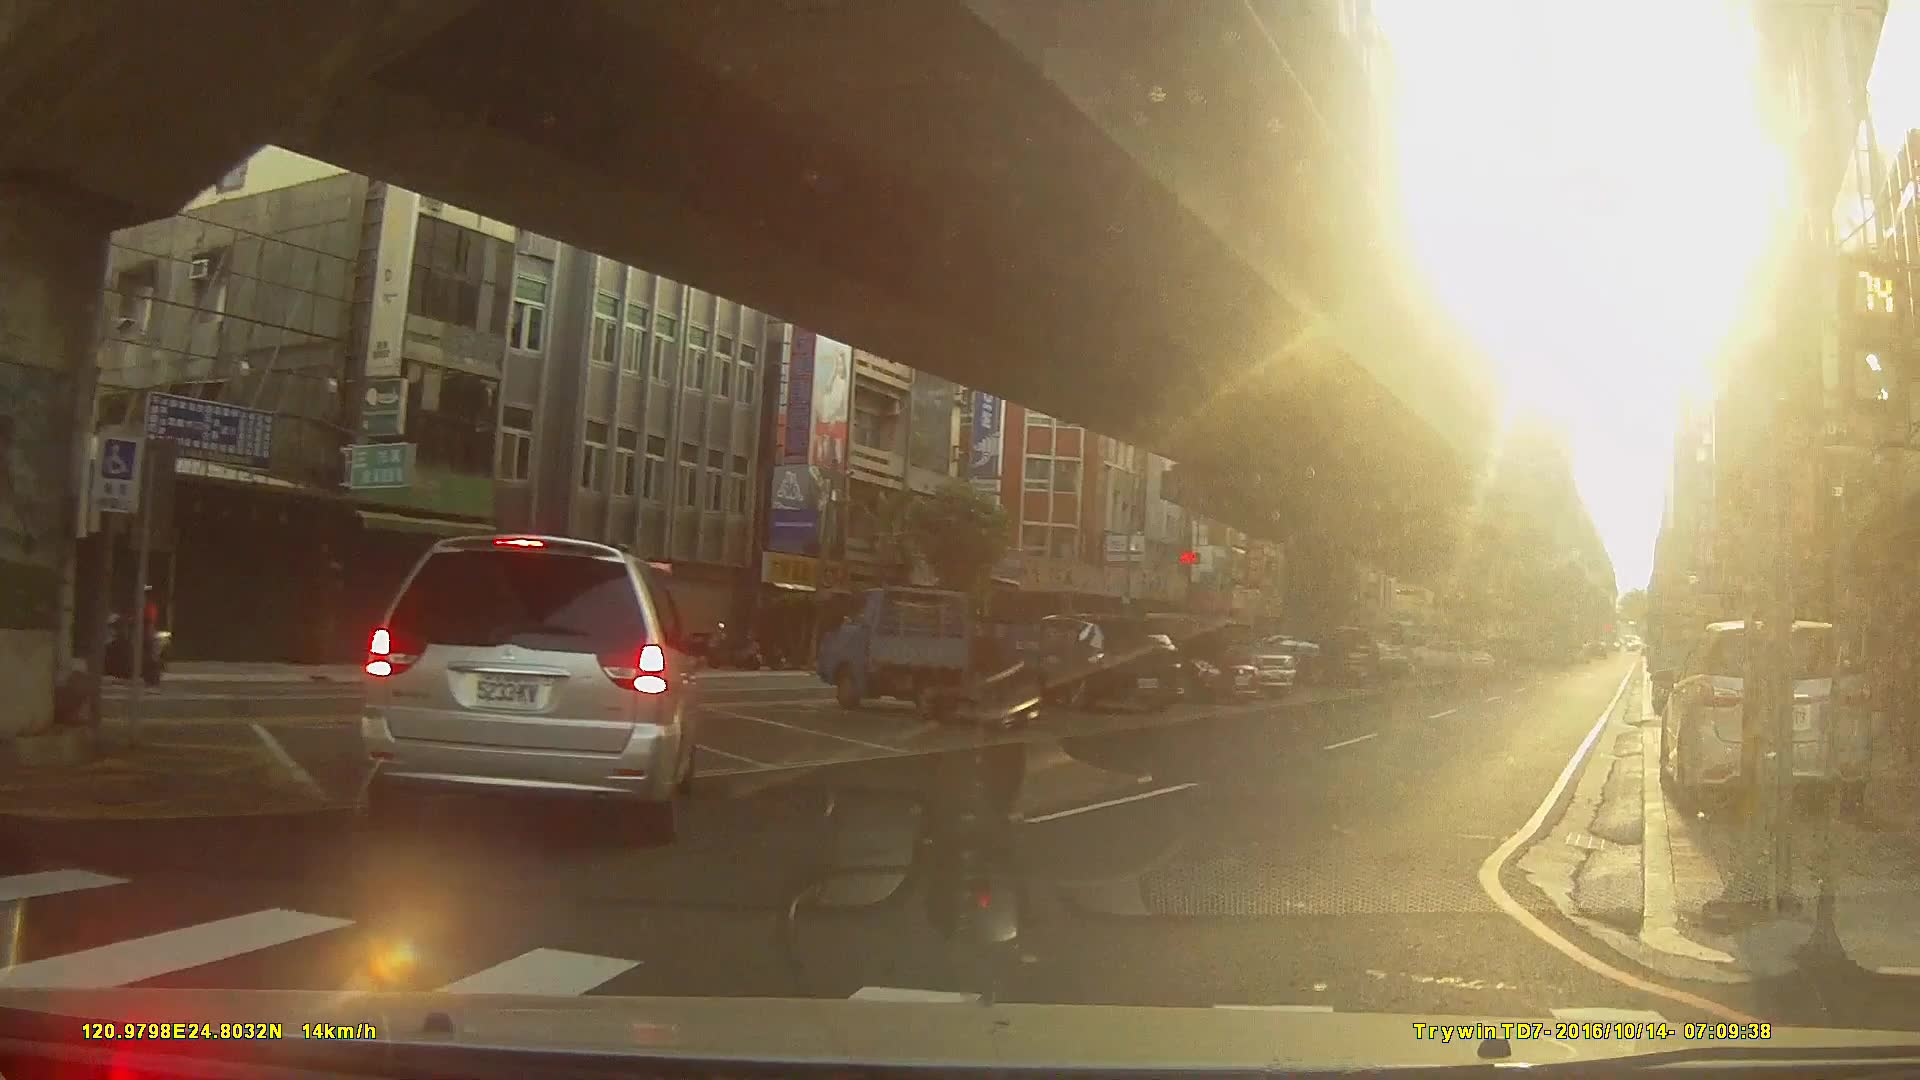rider: (85, 580, 177, 691)
vehicle: (360, 532, 700, 839), (1657, 619, 1875, 822), (814, 586, 1062, 725), (1001, 615, 1181, 718), (1095, 624, 1262, 707), (1233, 633, 1350, 687)
